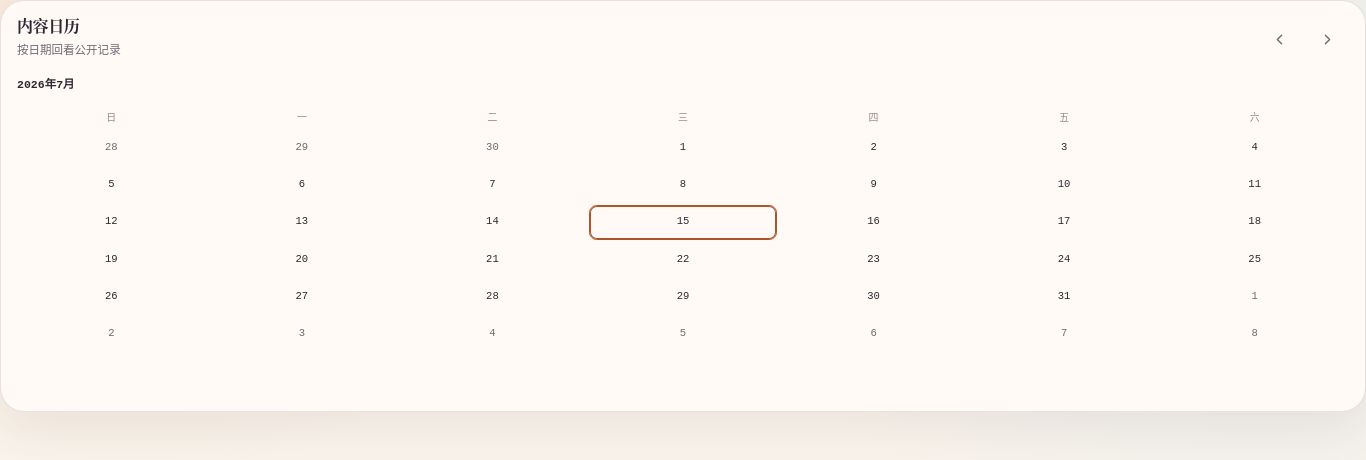
it: time and calendar widgets › loads and displays the next calendar month
Expected: the text "2026年7月" is shown, [17, 78, 75, 91]
Click the button named "下一个月": (1327, 39) [1305, 17, 1349, 61]
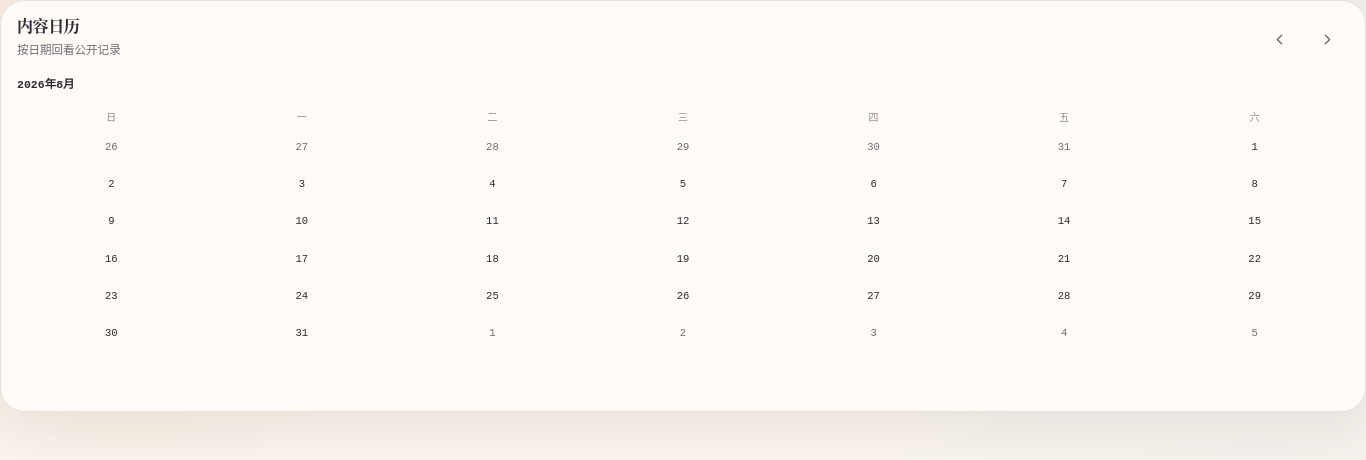
Now the text "2026年8月" is shown, box [17, 78, 75, 91]
